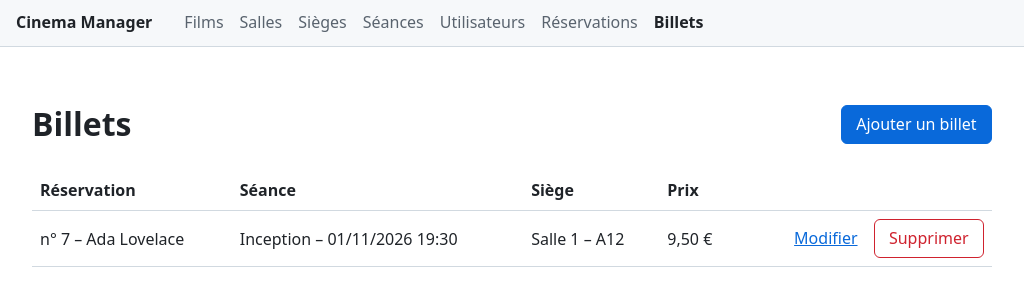
Test: TicketsPage › deletes a ticket after confirmation
The width and height of the screenshot is (1024, 284).
Click the button "Supprimer". click: click(929, 238)
box: [874, 219, 984, 258]
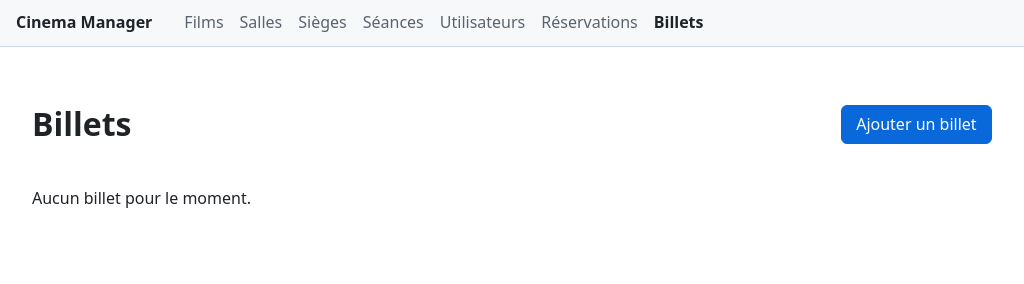
Now the text "Aucun billet pour le moment." is shown, box [32, 187, 251, 209]
